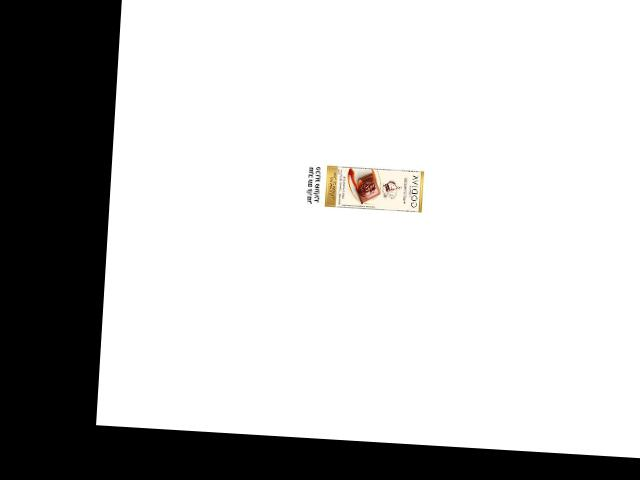chocolate: (321, 161, 426, 211)
